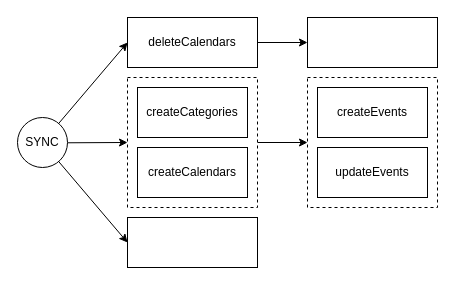
This 455x285 diagram has some shape labels left out. Each missing label, with the centre of its shape:
"deleteEvents" goes at [372,42].
"updateCalendars" goes at [192,242].
